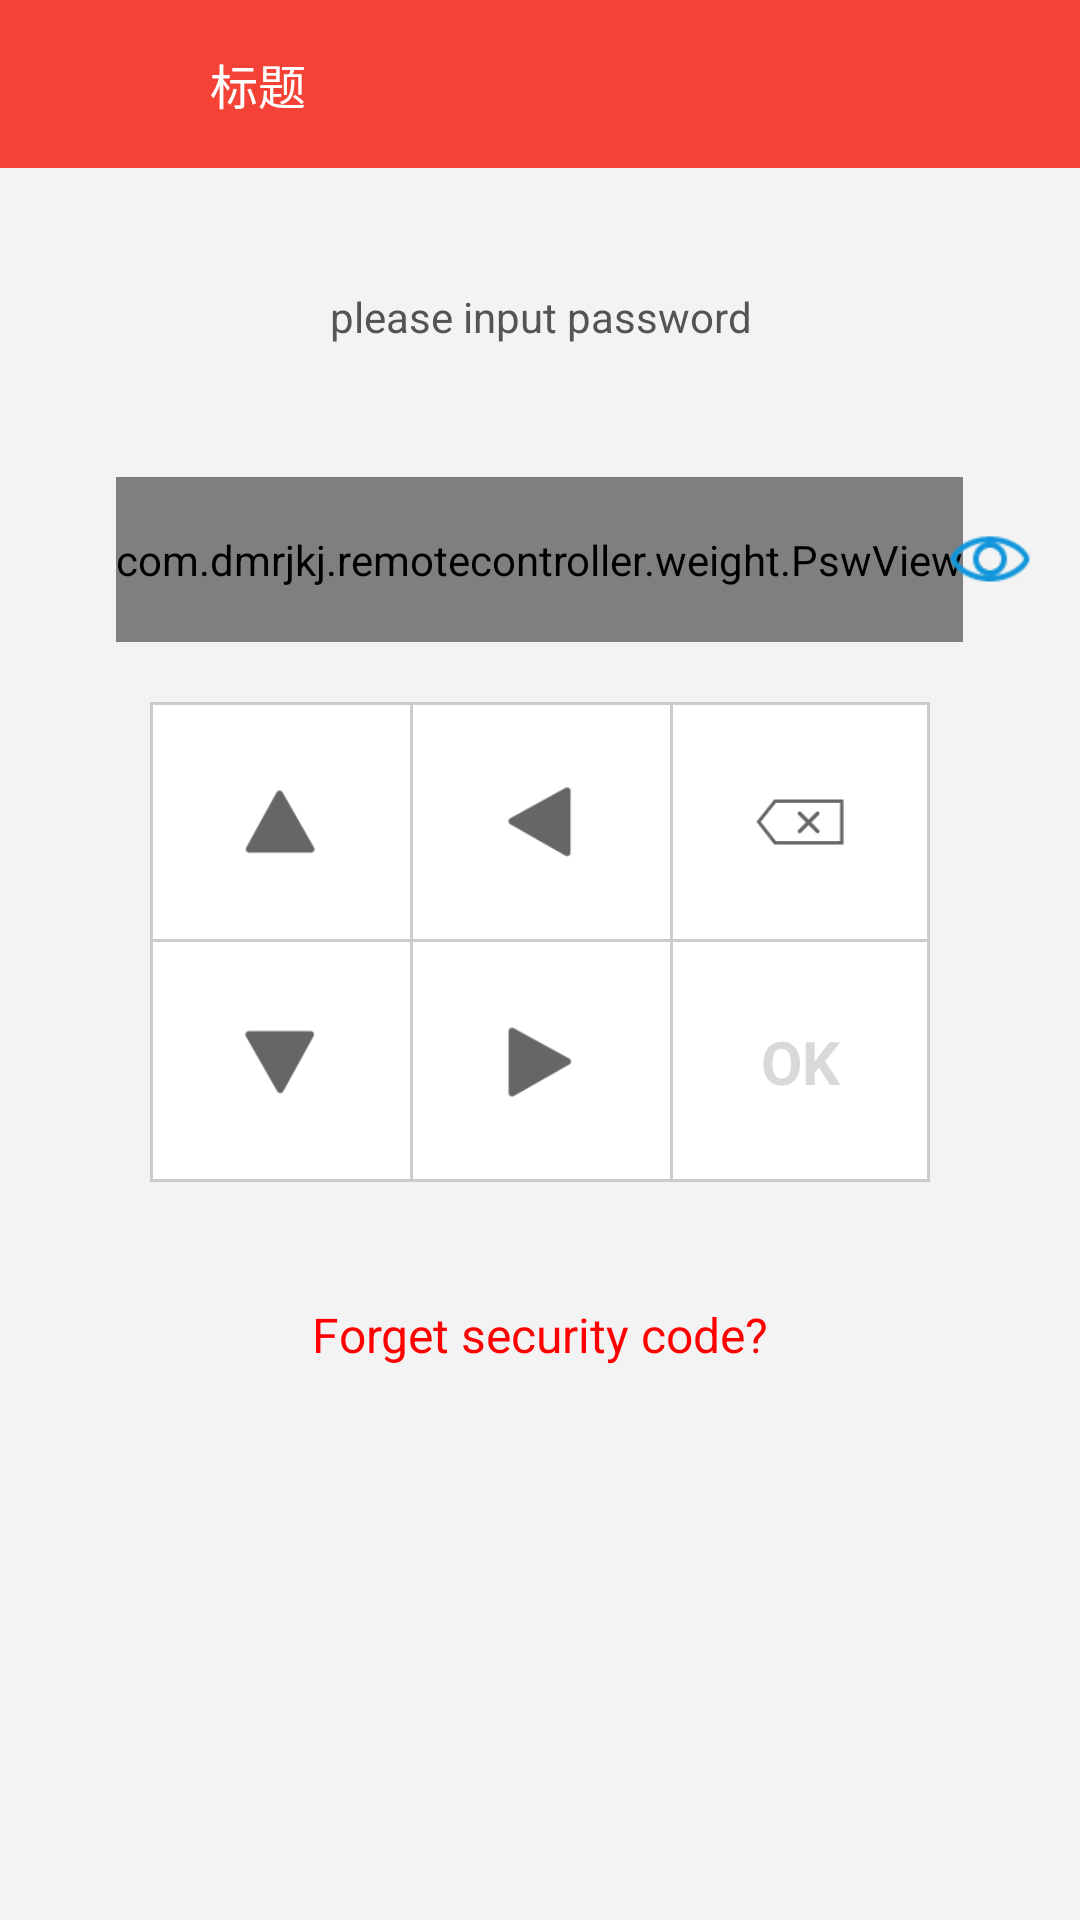

Where icons sit on this 1080x1920 app screen, as rect(x1, y1, x2, y2):
down: rect(245, 1031, 314, 1094)
eye open: rect(945, 514, 1030, 604)
left: rect(508, 787, 571, 857)
right: rect(508, 1027, 572, 1097)
